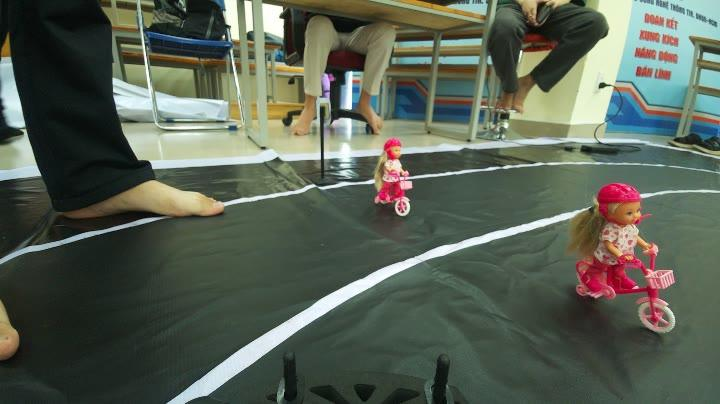pedestrian: (560, 182, 688, 336), (364, 138, 428, 212)
